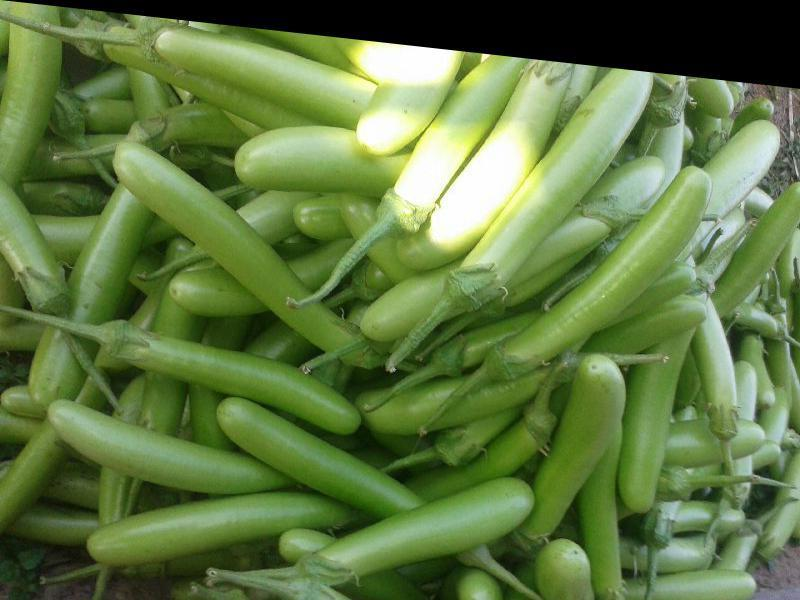eggplant: (0, 63, 752, 599)
